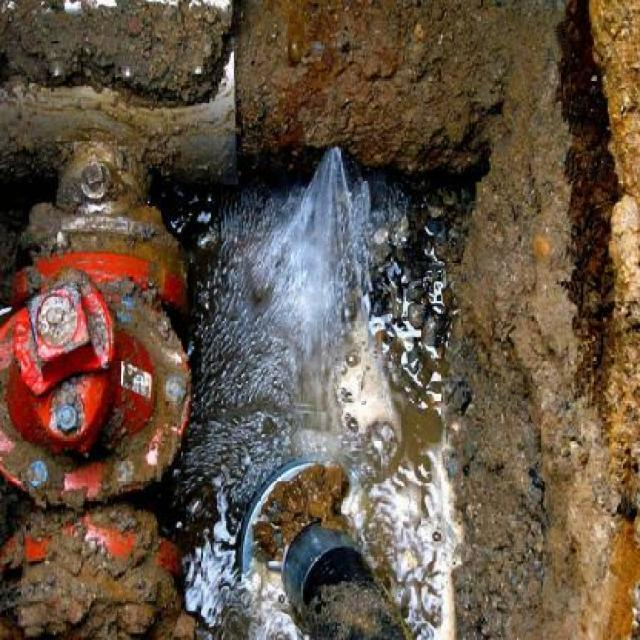pipe burst: (262, 137, 352, 274)
water accumulation: (154, 180, 457, 640)
